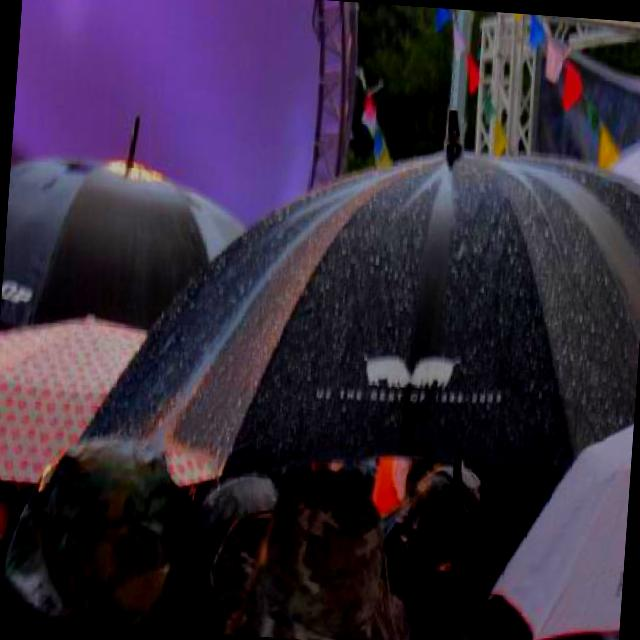Person: (0, 432, 241, 625), (247, 472, 408, 638), (377, 463, 478, 640), (186, 466, 288, 632), (455, 599, 535, 640)
